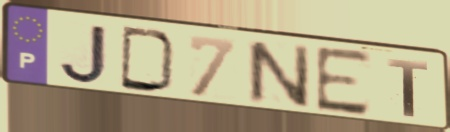7: (187, 34, 240, 100)
D: (118, 24, 180, 96)
E: (312, 44, 374, 119)
J: (57, 22, 111, 86)
N: (243, 38, 313, 110)
T: (386, 57, 431, 120)
